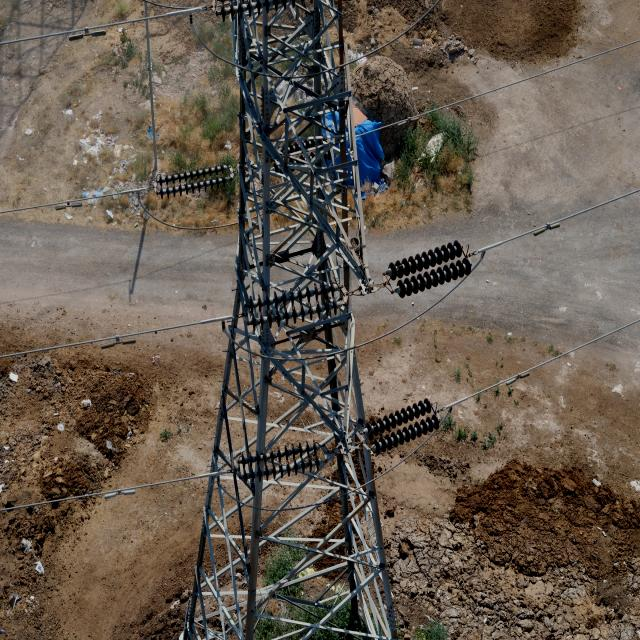voltage_line: (180, 0, 400, 625)
